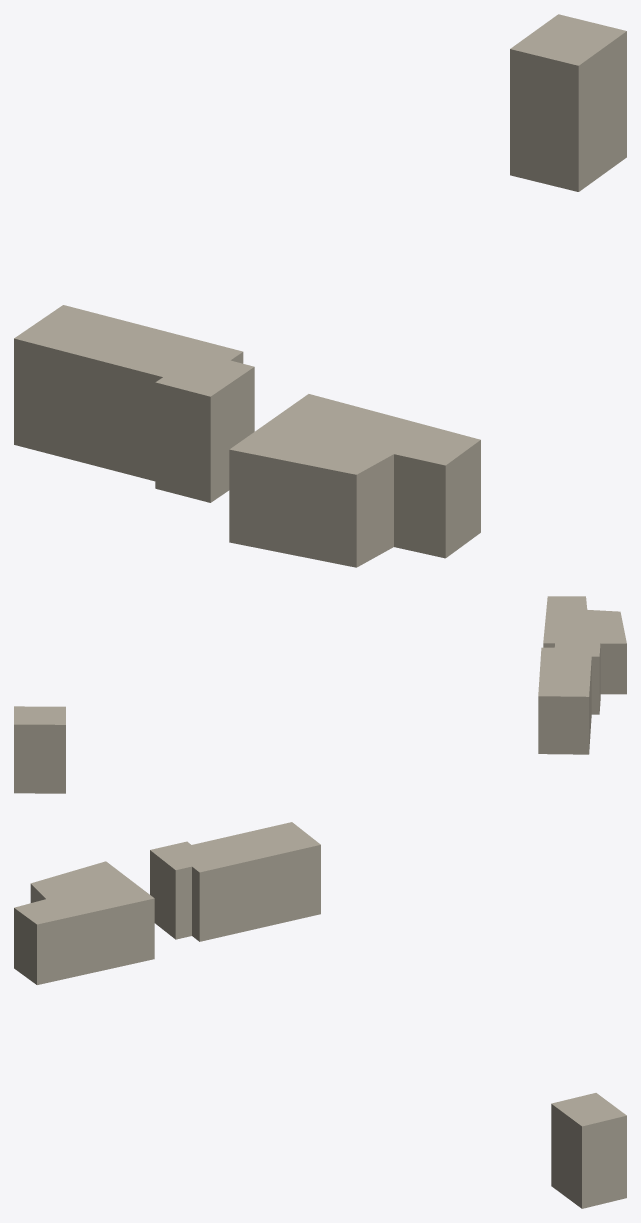
The model's file is senglea_56_27_collision.glb.
3 views of the same model, one above another, from view 1: azimuth 30°, elevation 25°; view 2: azimuth 150°, elevation 25°; view 3: azimuth 270°, elevation 25° (orthographic). The views are drawn at different scales.
Parts seen in each view (by area): view 1: geometry_0; view 2: geometry_0; view 3: geometry_0.
Boxes of the visible parts, box(x1,y1,x2,y2) form: geometry_0: box(14, 14, 626, 567); geometry_0: box(14, 596, 626, 793); geometry_0: box(14, 822, 626, 1208).
Bounding box in the file's own units: 105 × 22.3 × 102.
